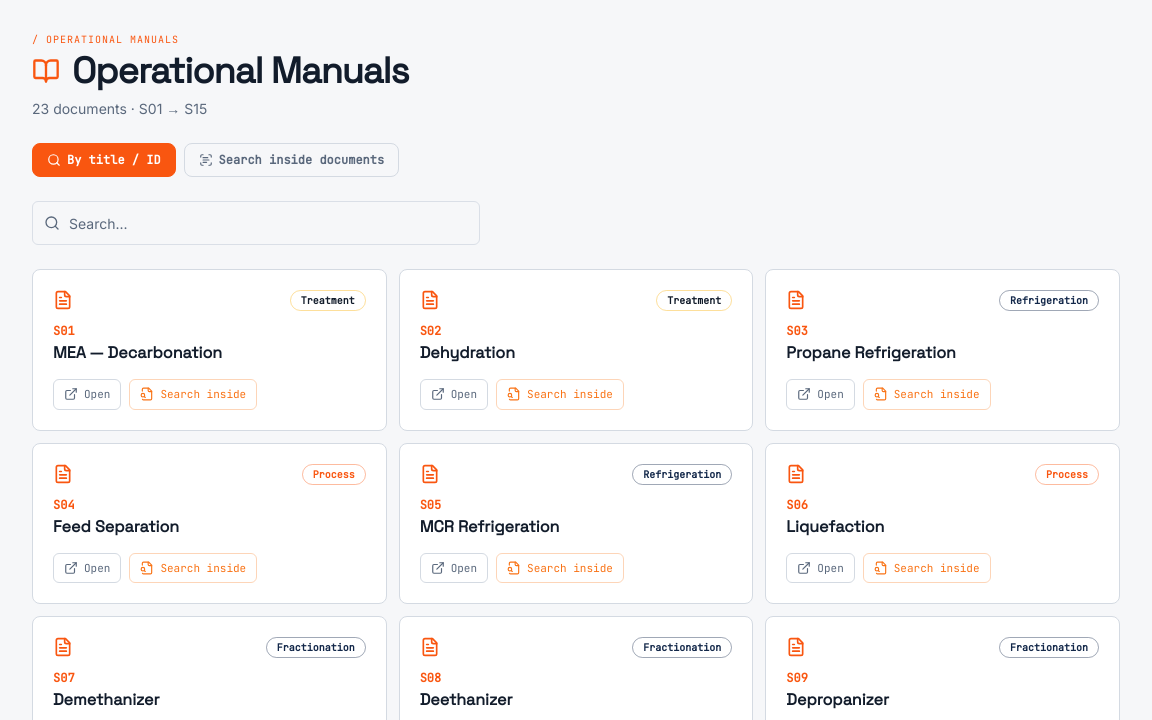
Test case: Manuals page — operational manual section › scopes an in-document search to the selected manual
The image size is (1152, 720).
Click the button "Search inside" below "MEA — Decarbonation" at (193, 394), box x1=129 y1=379 x2=257 y2=410
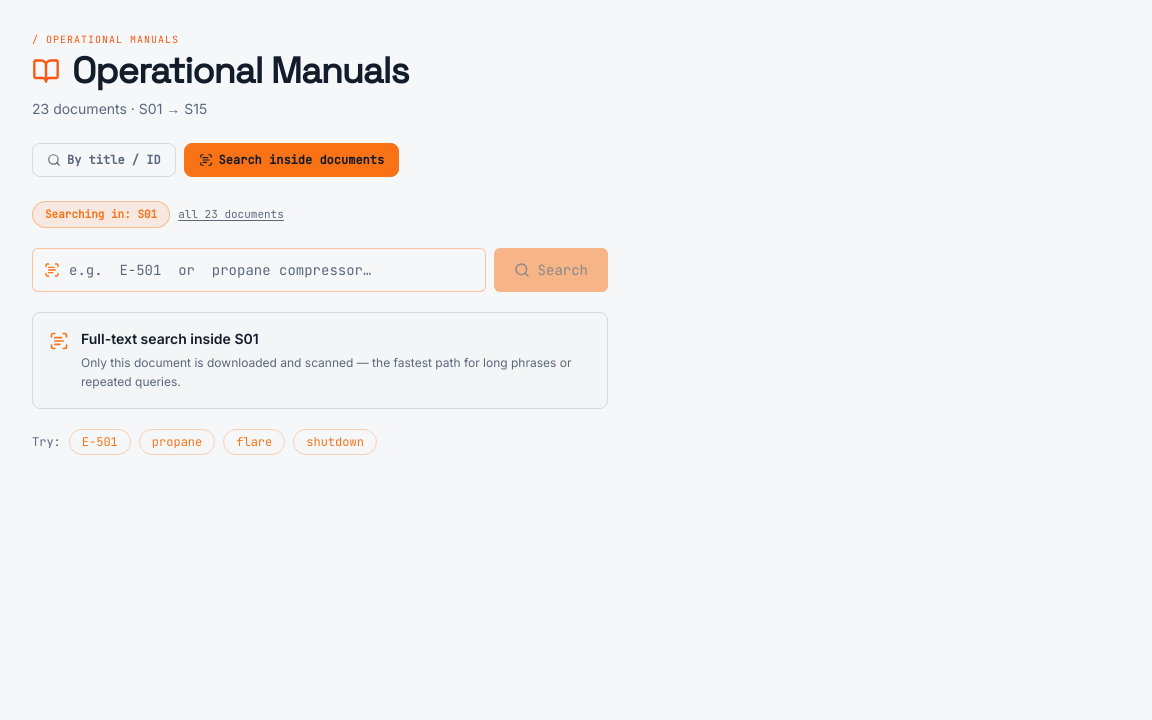
Now the text "Searching in: S01" is shown, box x1=32 y1=201 x2=170 y2=228
Type "condenser" into the field at (259, 270), box x1=32 y1=248 x2=486 y2=292
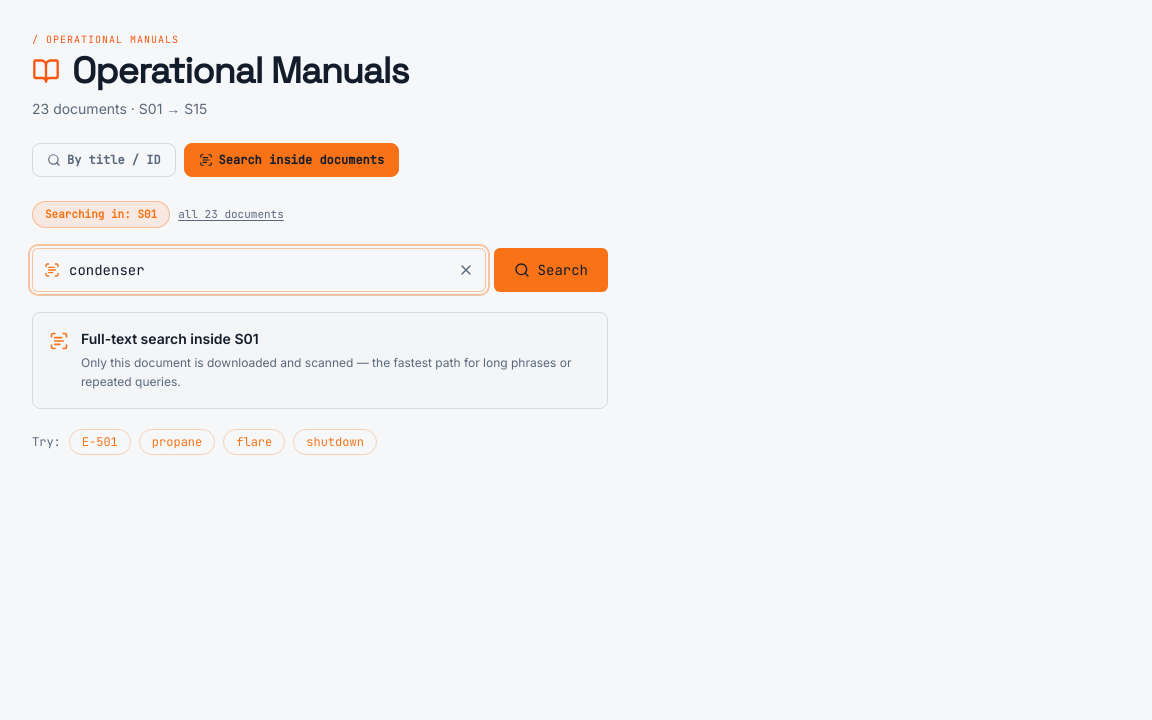
Click the button "Search" at (551, 270), box x1=494 y1=248 x2=608 y2=292
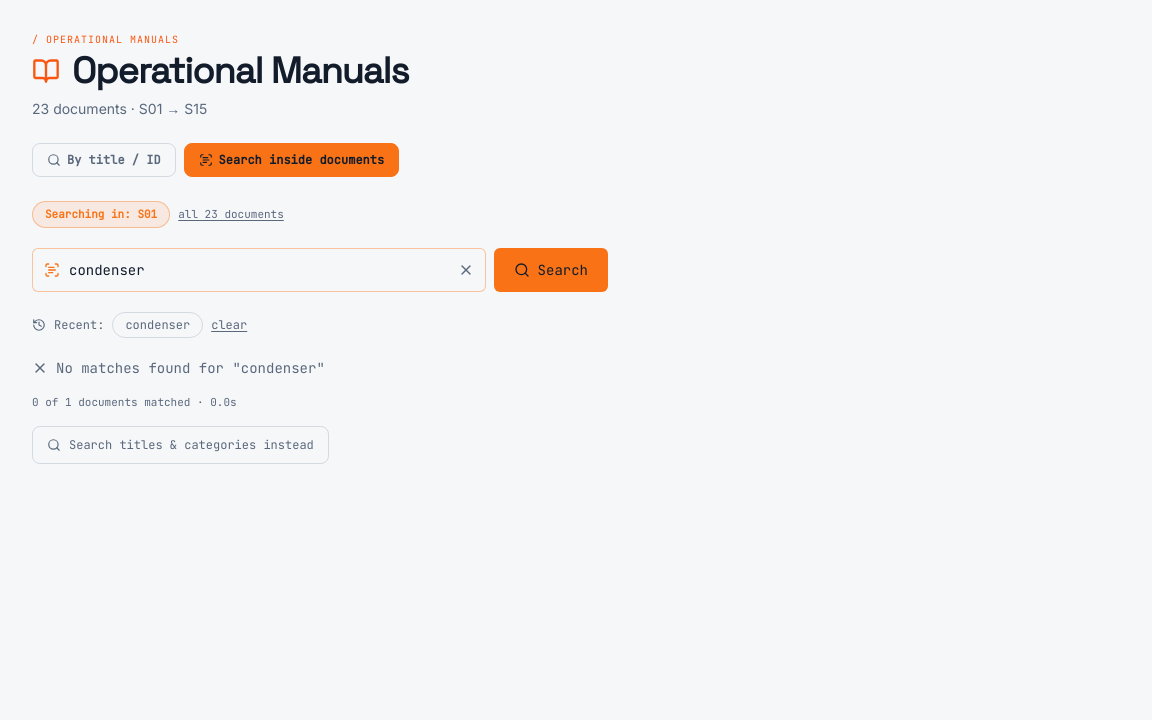
Now the text "0 of 1 documents matched · 0.0s" is shown, box x1=32 y1=394 x2=237 y2=408
